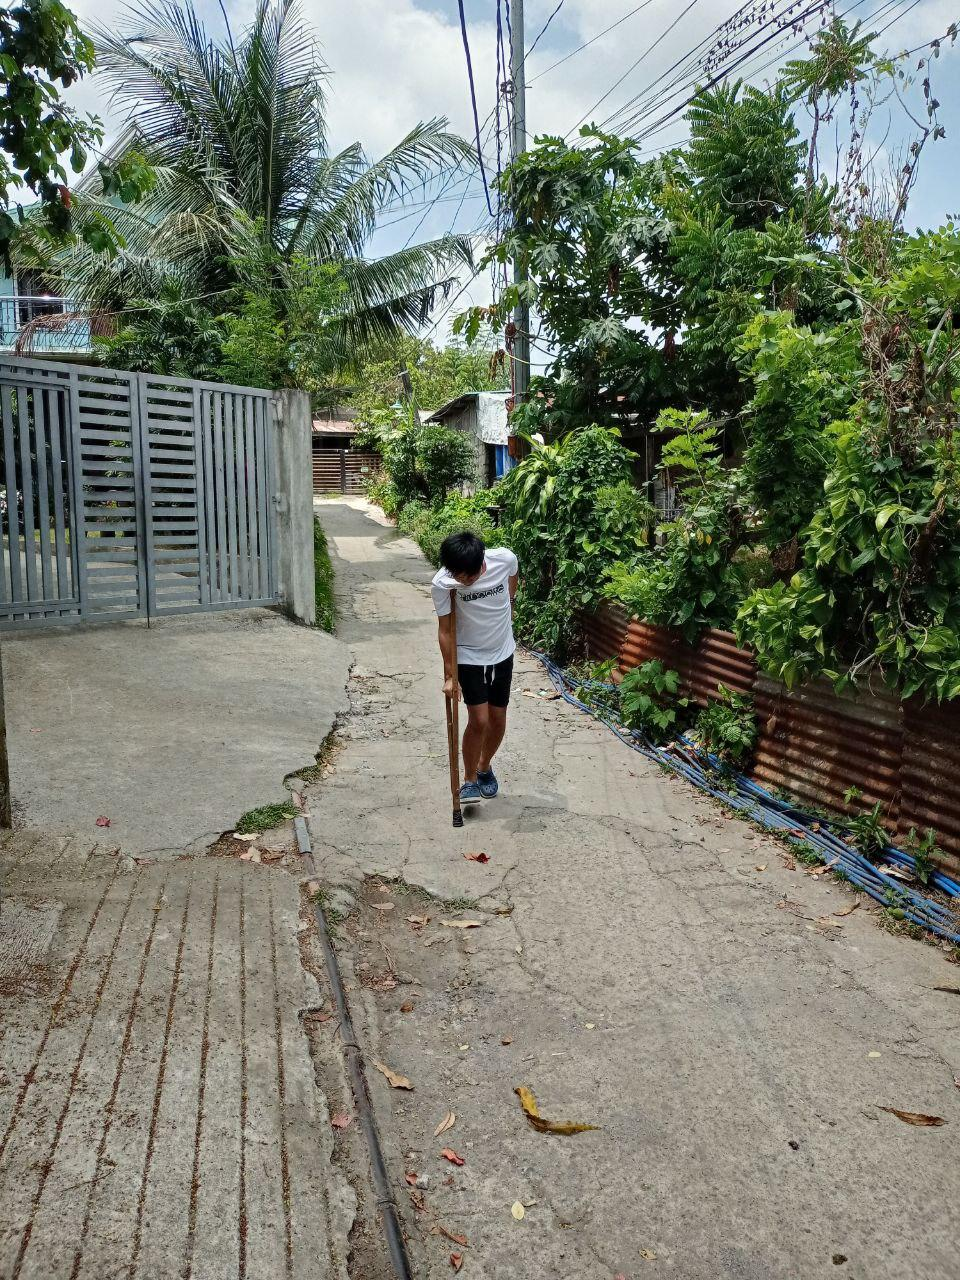crutches: (433, 533, 519, 828)
